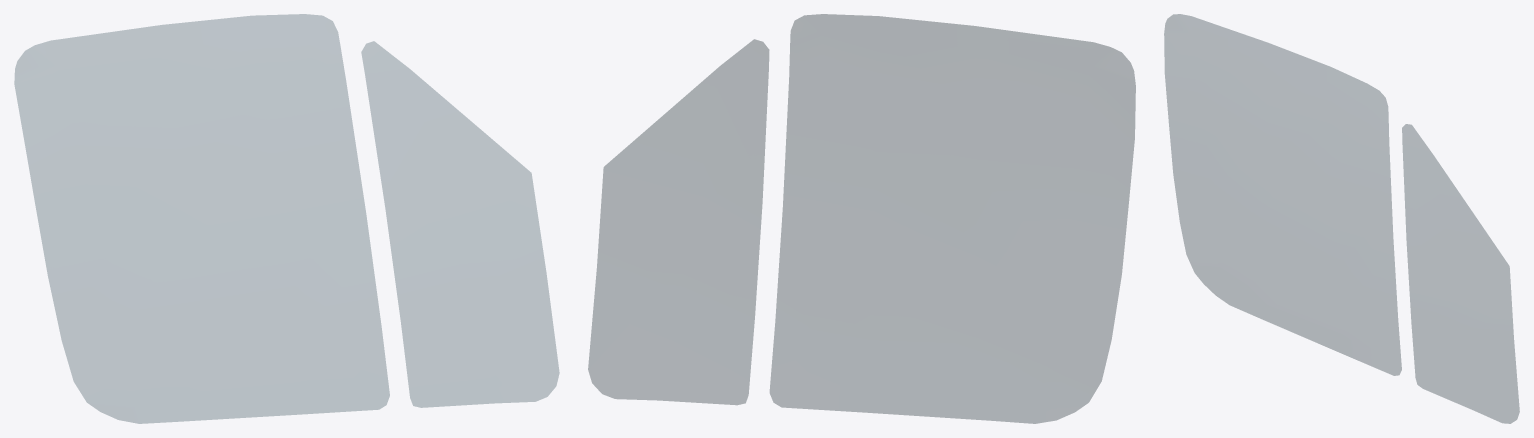
The picture shows the model from 3 angles, left to right: view 1: azimuth 30°, elevation 25°; view 2: azimuth 150°, elevation 25°; view 3: azimuth 330°, elevation 25°; orthographic projection. The views are drawn at different scales.
Parts seen in each view (by area): view 1: SM_MercedesSprinter_Door_FR_Glass_Int2; view 2: SM_MercedesSprinter_Door_FR_Glass_Int2; view 3: SM_MercedesSprinter_Door_FR_Glass_Int2.
Boxes of the visible parts, bbox=[...] form: SM_MercedesSprinter_Door_FR_Glass_Int2: bbox=[14, 14, 559, 423]; SM_MercedesSprinter_Door_FR_Glass_Int2: bbox=[588, 14, 1135, 423]; SM_MercedesSprinter_Door_FR_Glass_Int2: bbox=[1164, 14, 1519, 423].
Bounding box in the file's own units: 0.8731 × 0.7277 × 0.0518.
